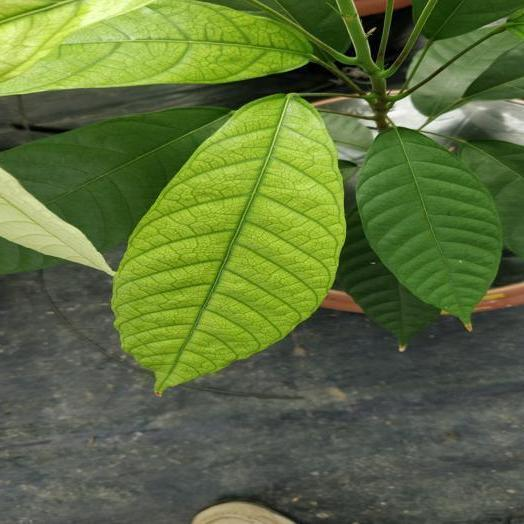Healthy Leaf: (0, 103, 233, 249), (353, 125, 503, 334), (339, 207, 439, 350), (407, 23, 523, 119), (459, 140, 523, 258), (415, 0, 523, 42)
Iron: (113, 95, 344, 392), (0, 0, 312, 94), (0, 0, 151, 81), (1, 168, 113, 274)
